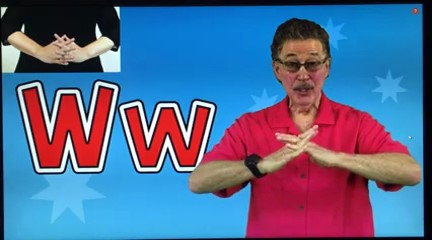W: (254, 115, 359, 177)
